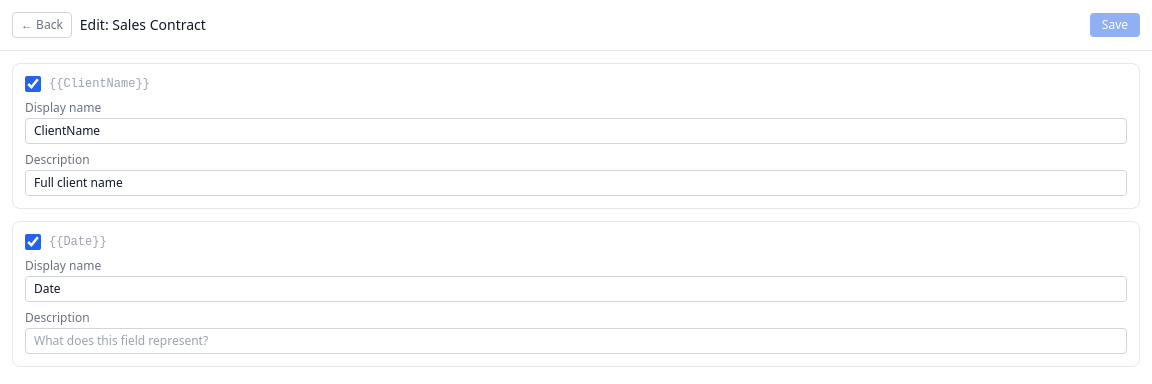
Test: EditTemplate › Save button enables after changing a display name
This screenshot has width=1152, height=384.
Step 1. Replace the text in the 1st field showing "ClientName" with "Client Name" → (576, 131), box [25,118,1127,144]
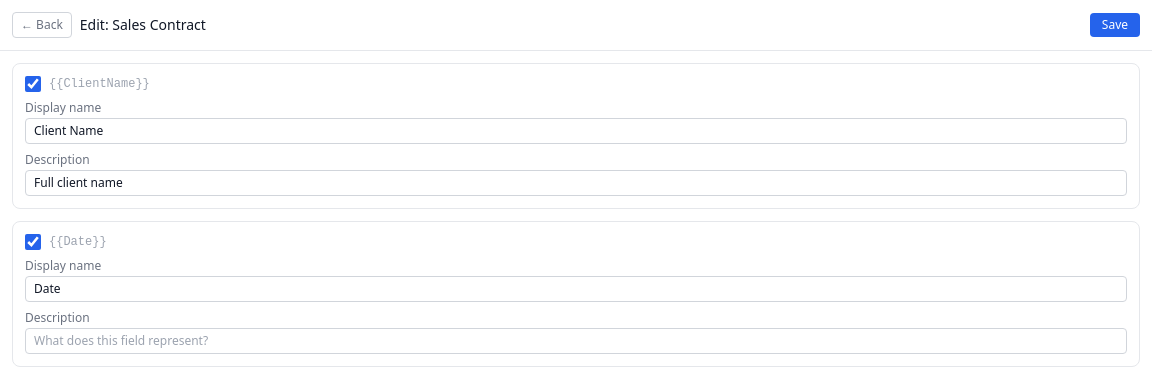
Now the button "Save" is enabled, box [1090,13,1140,37]
